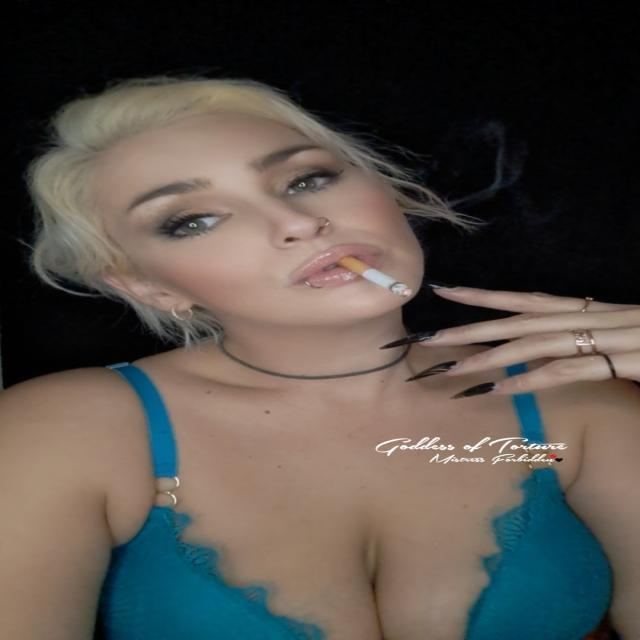rokok: (342, 258, 412, 298)
